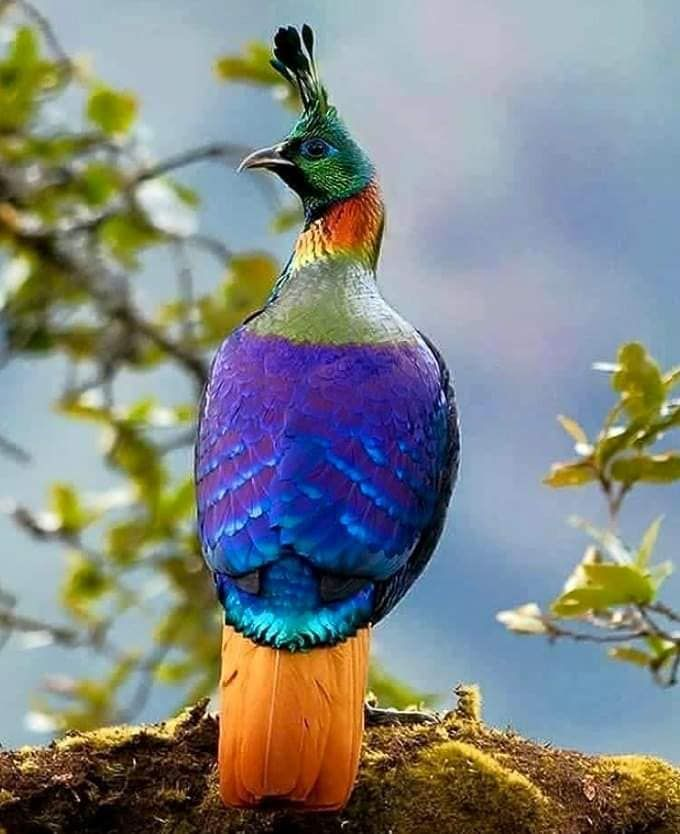bird: (179, 7, 470, 819)
